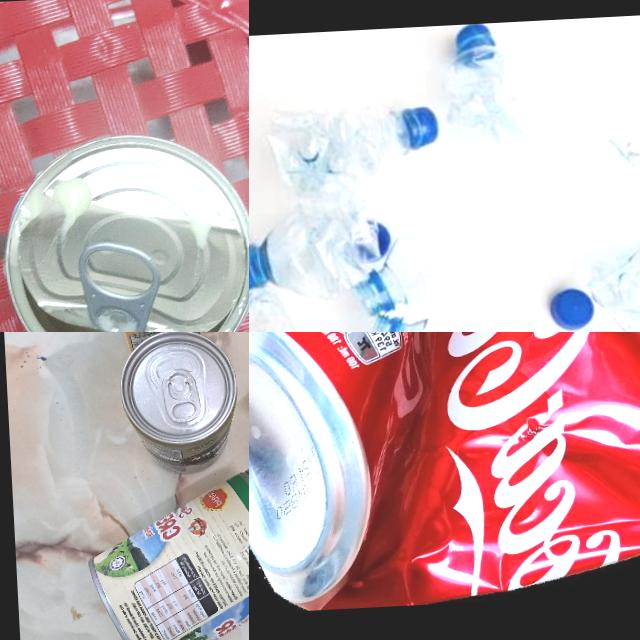aba de lata: (76, 236, 165, 332), (158, 369, 202, 424)
garrafa plástica: (345, 127, 640, 320), (270, 104, 413, 198), (260, 198, 388, 299), (442, 41, 541, 148), (585, 230, 640, 332)
lata: (249, 332, 640, 614), (0, 127, 249, 332), (84, 466, 249, 640), (117, 332, 242, 473)
tampa plástica: (549, 290, 595, 331), (356, 220, 390, 264), (408, 104, 439, 148), (456, 22, 490, 46)
